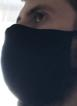with_mask: (1, 2, 77, 106)
